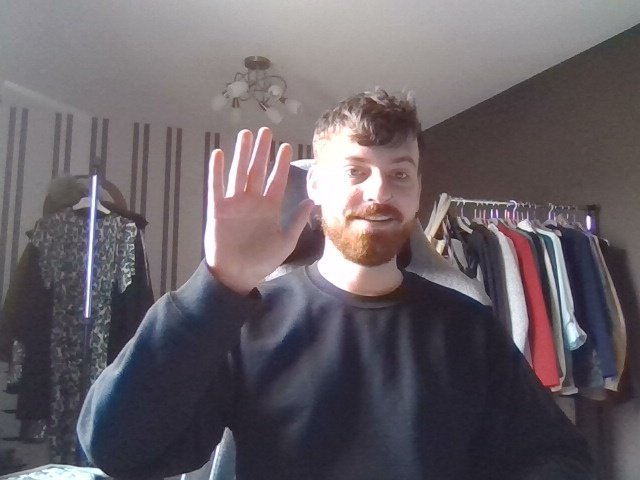Hello: (193, 113, 326, 299)
